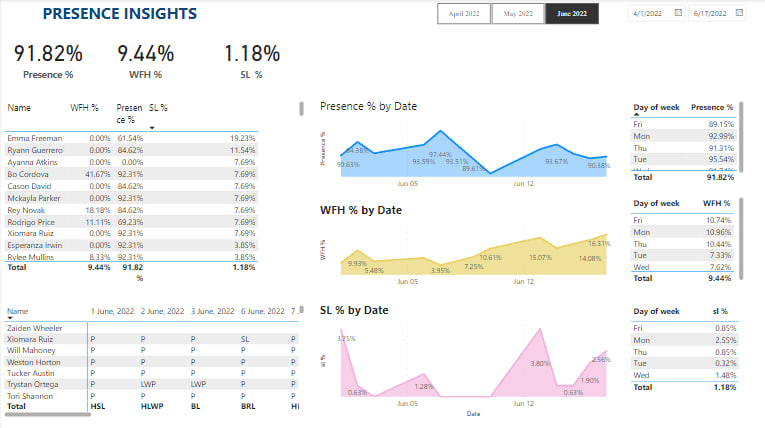

The page's visual inventory and layout, read from the dashboard file:
{"tool":"powerbi","page":{"name":"PRESENCE INSIGHTS","canvas":[1280,720],"ordinal":0},"visuals":[{"type":"card","fields":{"Values":["Measure.Presence %"]},"box":[0,48.6,157.5,97.2],"z":2},{"type":"slicer","fields":{"Values":["FINAL DATA.Month"]},"box":[705.3,0,320,48.6],"z":3},{"type":"card","fields":{"Values":["Measure.WFH %"]},"box":[157.5,48.6,169.2,97.2],"z":4},{"type":"card","fields":{"Values":["Measure.sl %"]},"box":[326.7,48.6,186,97.2],"z":5},{"type":"tableEx","fields":{"Values":["FINAL DATA.Name","Measure.WFH %","Measure.Presence %","Measure.sl %"]},"box":[0,165.9,512.7,315],"z":6},{"type":"textbox","box":[53.6,0,289.8,48.6],"z":7},{"type":"pivotTable","fields":{"Rows":["FINAL DATA.Name"],"Values":["Min(FINAL DATA.Value)"],"Columns":["FINAL DATA.Date"]},"box":[0,507.6,512.7,197.7],"z":8},{"type":"stackedAreaChart","fields":{"Y":["Measure.Presence %"],"Category":["FINAL DATA.Date"]},"box":[529.4,165.9,507.6,160.8],"z":9},{"type":"stackedAreaChart","fields":{"Y":["Measure.WFH %"],"Category":["FINAL DATA.Date"]},"box":[529.4,340.1,507.6,152.5],"z":10},{"type":"stackedAreaChart","title":"SL % by Date","fields":{"Y":["Measure.sl %"],"Category":["FINAL DATA.Date"]},"box":[529.4,507.6,507.6,197.7],"z":11},{"type":"tableEx","fields":{"Values":["FINAL DATA.Day of week","Measure.Presence %"]},"box":[1048.8,165.9,201,145.8],"z":12},{"type":"tableEx","fields":{"Values":["FINAL DATA.Day of week","Measure.WFH %"]},"box":[1048.8,326.7,201,154.1],"z":13},{"type":"tableEx","fields":{"Values":["FINAL DATA.Day of week","Measure.sl %"]},"box":[1048.8,507.6,201,197.7],"z":14},{"type":"slicer","fields":{"Values":["FINAL DATA.Date"]},"box":[1037.1,0,224.5,48.6],"z":15}]}

Visuals, with their boxes in screenshot pixels (x1, y1, x2, y2), scaled from the page's 1280x720 canvas onto the 765x428 screenshot:
card - Measure.Presence %: Rect(0, 29, 94, 87)
slicer - FINAL DATA.Month: Rect(422, 0, 613, 29)
card - Measure.WFH %: Rect(94, 29, 195, 87)
card - Measure.sl %: Rect(195, 29, 306, 87)
tableEx - FINAL DATA.Name x Measure.WFH %: Rect(0, 99, 306, 286)
textbox: Rect(32, 0, 205, 29)
pivotTable - FINAL DATA.Name x Min(FINAL DATA.Value): Rect(0, 302, 306, 419)
stackedAreaChart - Measure.Presence % x FINAL DATA.Date: Rect(316, 99, 620, 194)
stackedAreaChart - Measure.WFH % x FINAL DATA.Date: Rect(316, 202, 620, 293)
"SL % by Date" stackedAreaChart: Rect(316, 302, 620, 419)
tableEx - FINAL DATA.Day of week x Measure.Presence %: Rect(627, 99, 747, 185)
tableEx - FINAL DATA.Day of week x Measure.WFH %: Rect(627, 194, 747, 286)
tableEx - FINAL DATA.Day of week x Measure.sl %: Rect(627, 302, 747, 419)
slicer - FINAL DATA.Date: Rect(620, 0, 754, 29)
